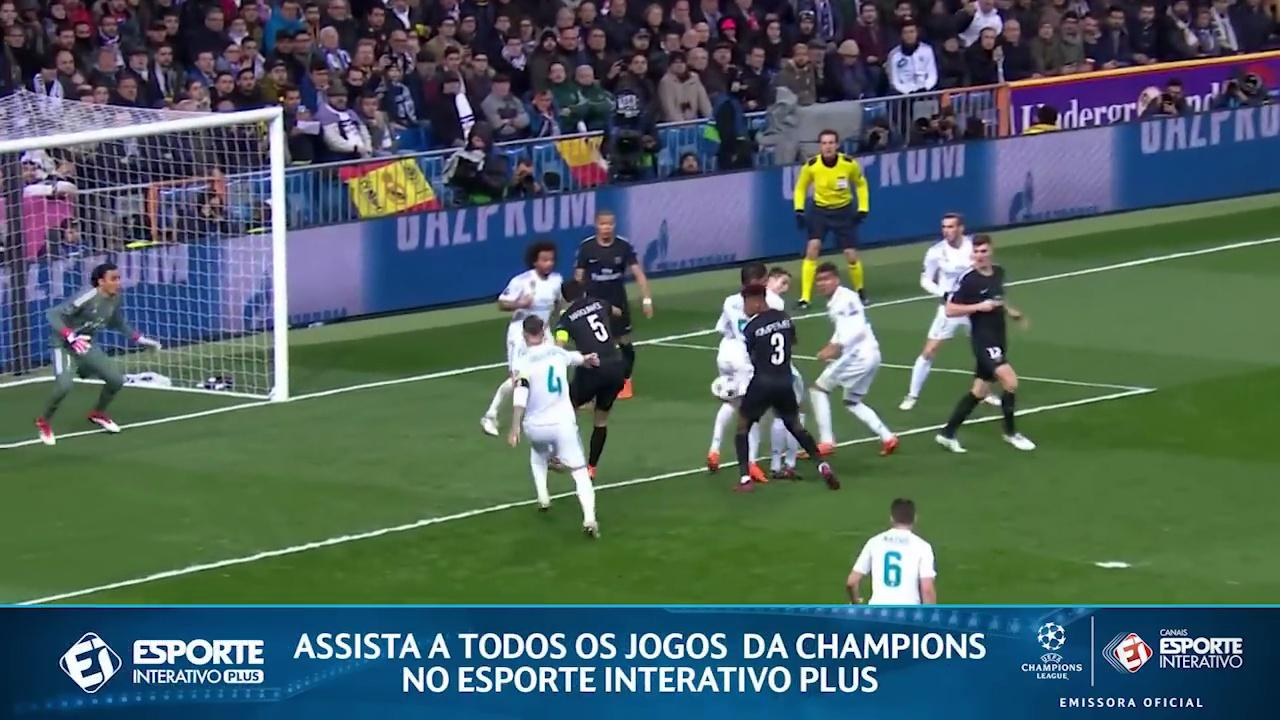football: (1037, 622, 1065, 651), (711, 376, 737, 400)
player: (35, 263, 161, 444), (735, 284, 839, 490), (936, 235, 1034, 452), (509, 316, 598, 536), (810, 263, 898, 454), (481, 240, 562, 436), (574, 210, 652, 398), (899, 213, 971, 410), (554, 280, 624, 477), (846, 498, 936, 604), (707, 291, 752, 471), (707, 292, 751, 471), (770, 418, 802, 478)
referee: (794, 130, 868, 307)
